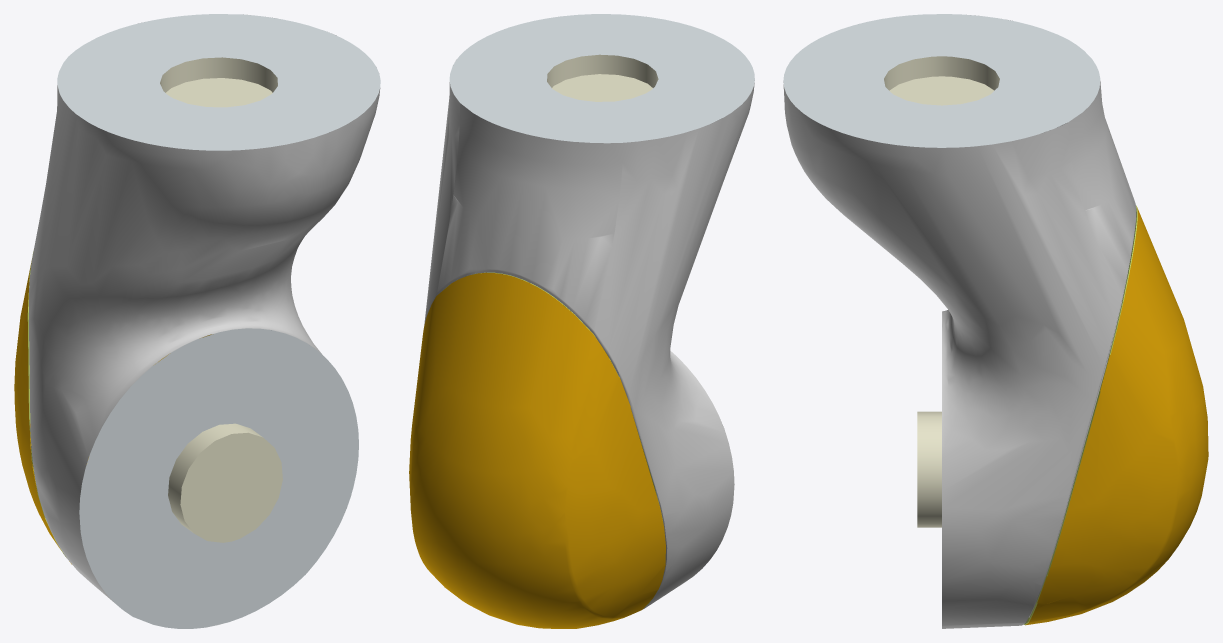
The model's file is IIWA7_Link2.dae.
The picture shows the model from 3 angles, left to right: view 1: azimuth 30°, elevation 25°; view 2: azimuth 150°, elevation 25°; view 3: azimuth 270°, elevation 25°; orthographic projection. The views are drawn at different scales.
Visible parts, largest first — view 1: MeshFeature1_1_008; view 2: MeshFeature1_1_008; view 3: MeshFeature1_1_008.
Boxes of the visible parts, x1=… form: MeshFeature1_1_008: x1=14, y1=14, x2=380, y2=628; MeshFeature1_1_008: x1=409, y1=14, x2=754, y2=628; MeshFeature1_1_008: x1=783, y1=14, x2=1208, y2=628.
Size of the model in its own units: 0.136 by 0.1824 by 0.252.
